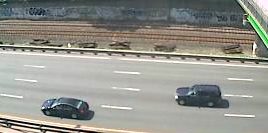car: (173, 82, 224, 109), (40, 96, 91, 121)
